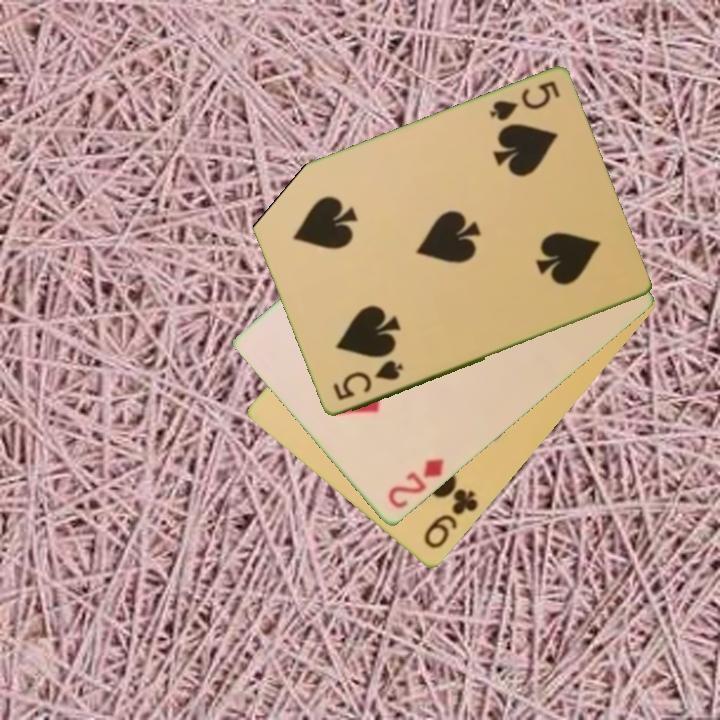2d: (384, 455, 447, 512)
5s: (329, 356, 406, 404), (485, 78, 563, 125)
9c: (420, 485, 482, 553)
